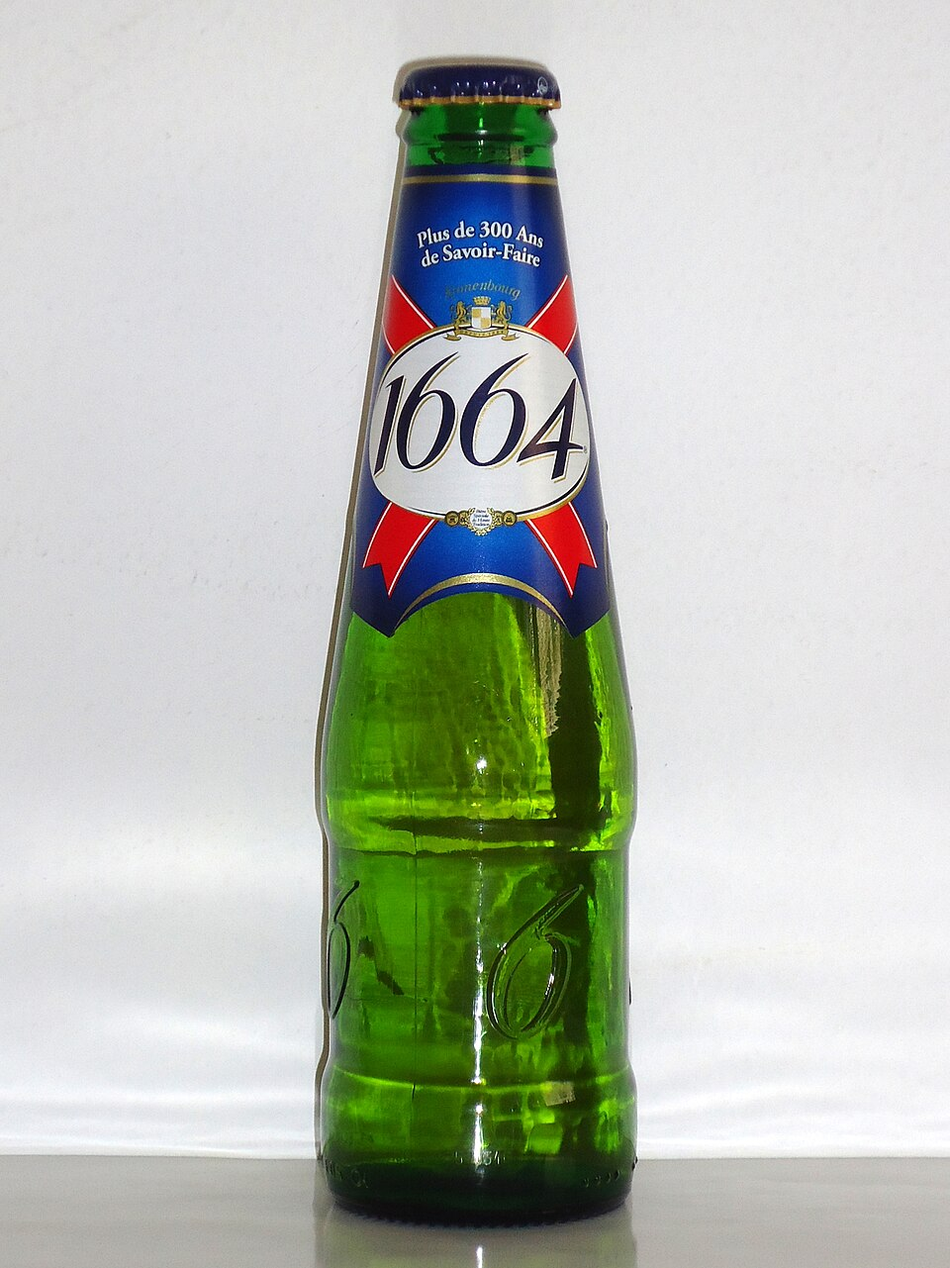beer-bottle: (297, 20, 660, 1255)
